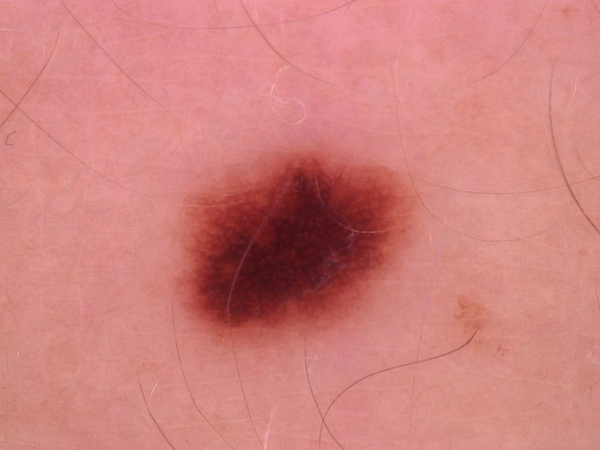Detected Lesion: (169, 149, 412, 357)
